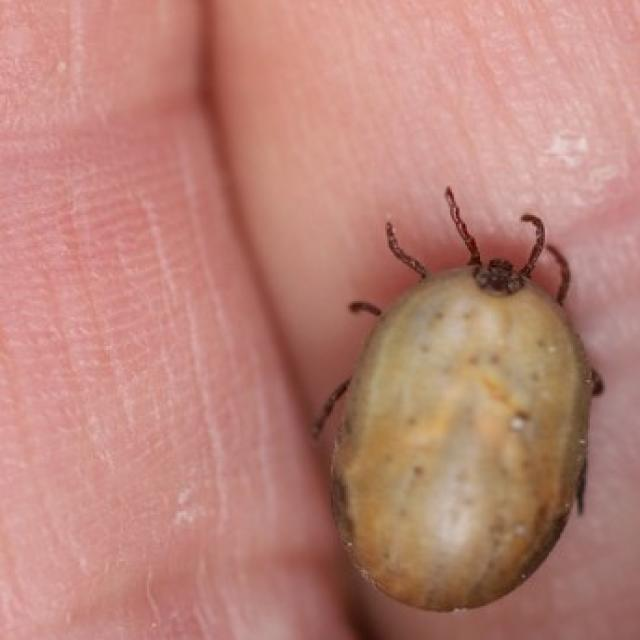Dermacentor Reticulatus-F-Fed: (313, 190, 605, 613)
